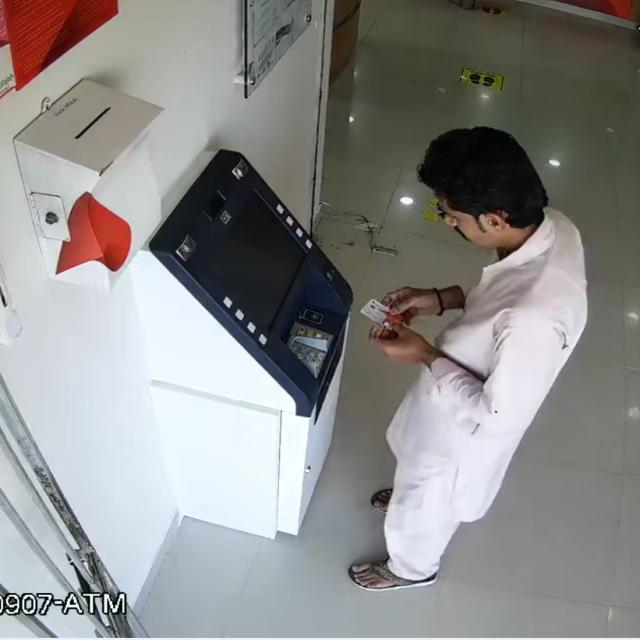atm-card: (353, 291, 420, 337)
